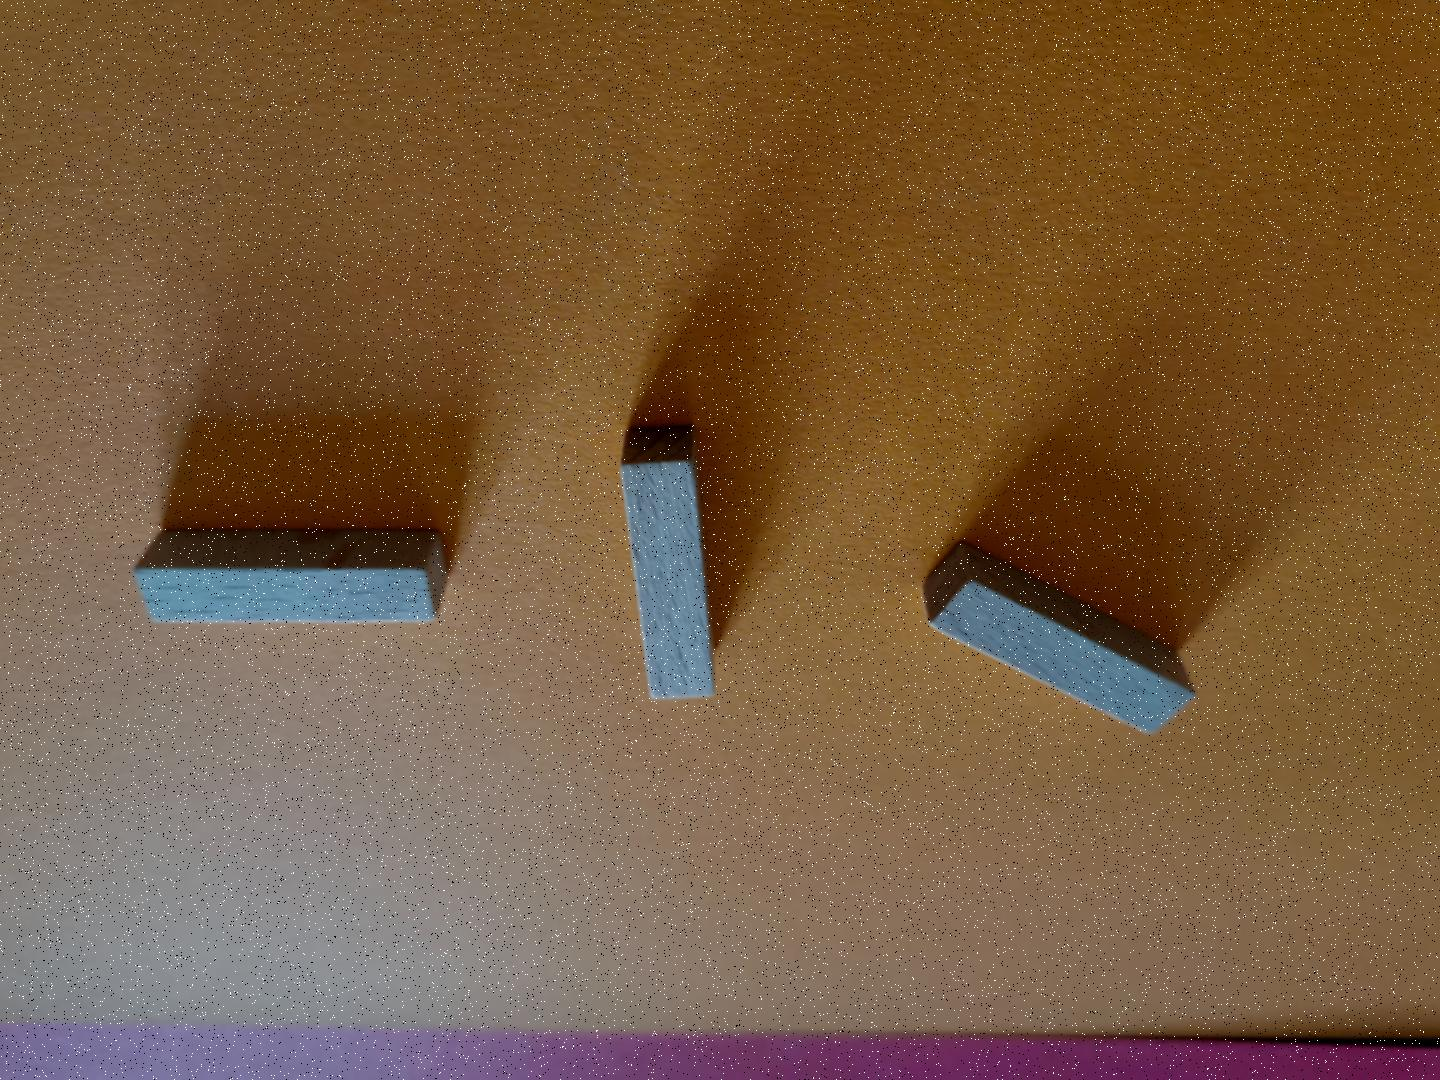jenga: (923, 542, 1195, 734), (135, 529, 447, 622), (621, 428, 714, 700)
